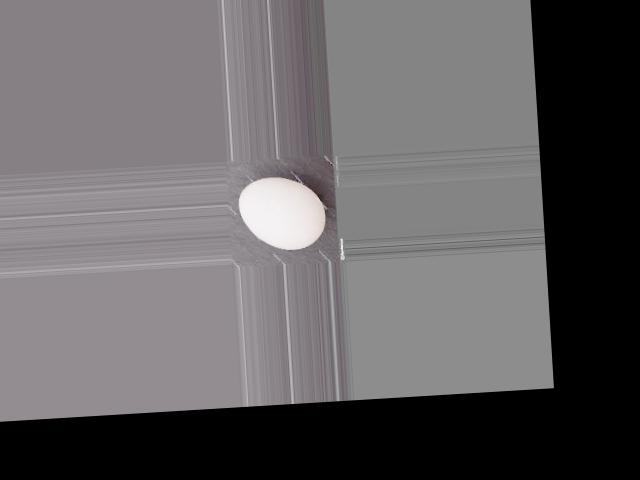egg: (237, 173, 327, 252)
